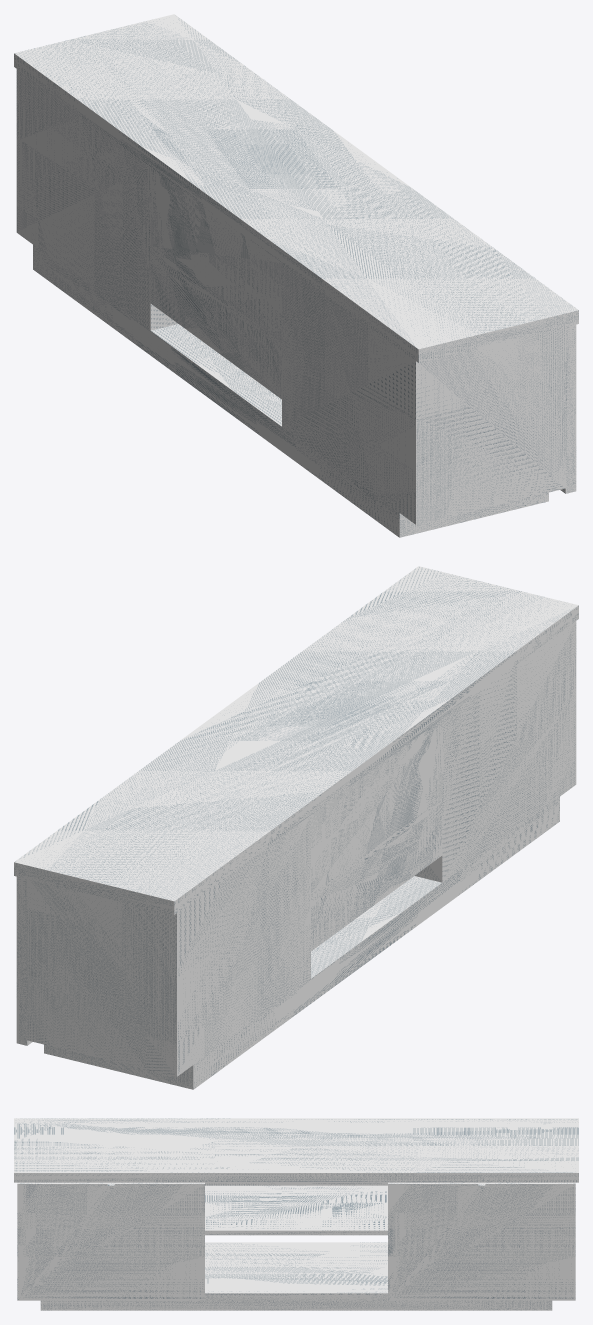
The model's file is tvtable.dae.
3 renders of one model, top to bottom at view 1: azimuth 30°, elevation 25°; view 2: azimuth 150°, elevation 25°; view 3: azimuth 270°, elevation 25°, orthographic. The views are drawn at different scales.
Visible parts, largest first — view 1: group_3, group_1, group_2, instance_0, group_0, group_4; view 2: group_3, group_2, group_1, instance_0, group_0, group_5; view 3: group_3, group_4, group_5, group_0, instance_0.
Part boxes in pixels (bbox=[...]): group_3: bbox=[14, 14, 578, 362]; group_1: bbox=[282, 263, 565, 524]; group_2: bbox=[16, 69, 177, 330]; instance_0: bbox=[150, 167, 281, 399]; group_0: bbox=[33, 245, 548, 537]; group_4: bbox=[560, 324, 576, 493]; group_3: bbox=[14, 566, 578, 914]; group_2: bbox=[27, 815, 310, 1076]; group_1: bbox=[415, 621, 576, 882]; instance_0: bbox=[311, 719, 442, 951]; group_0: bbox=[44, 797, 559, 1089]; group_5: bbox=[16, 876, 32, 1045]; group_3: bbox=[14, 1118, 578, 1182]; group_4: bbox=[17, 1182, 204, 1300]; group_5: bbox=[388, 1182, 575, 1300]; group_0: bbox=[40, 1242, 552, 1310]; instance_0: bbox=[205, 1182, 387, 1235].
Size of the model in its own units: 14.96 by 63.63 by 17.56.
